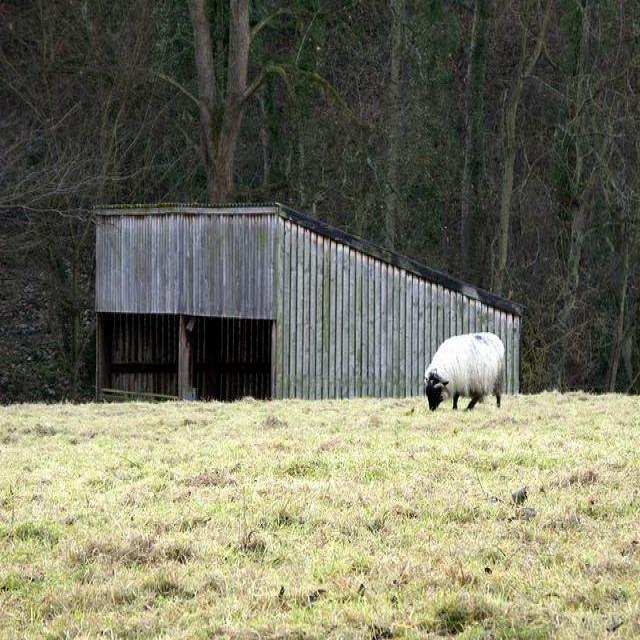Sheep: (423, 332, 504, 412)
